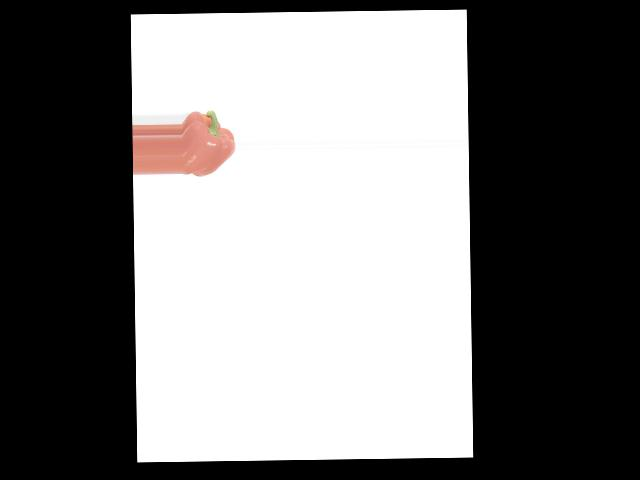bell_pepper: (180, 101, 236, 184)
